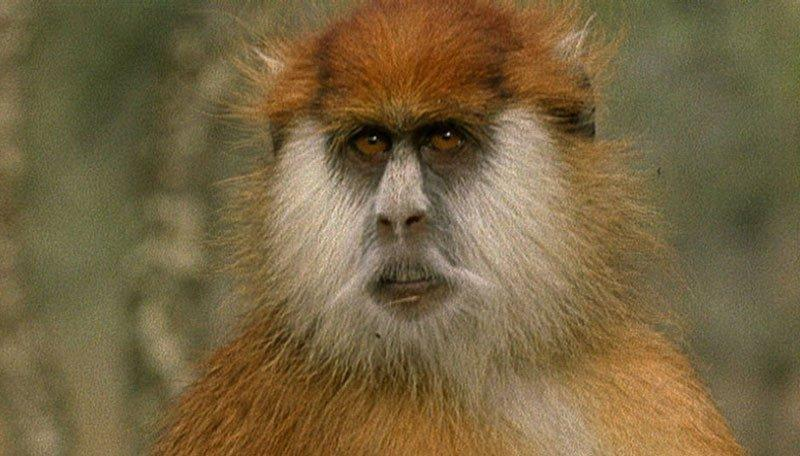monkey: (197, 0, 747, 456)
